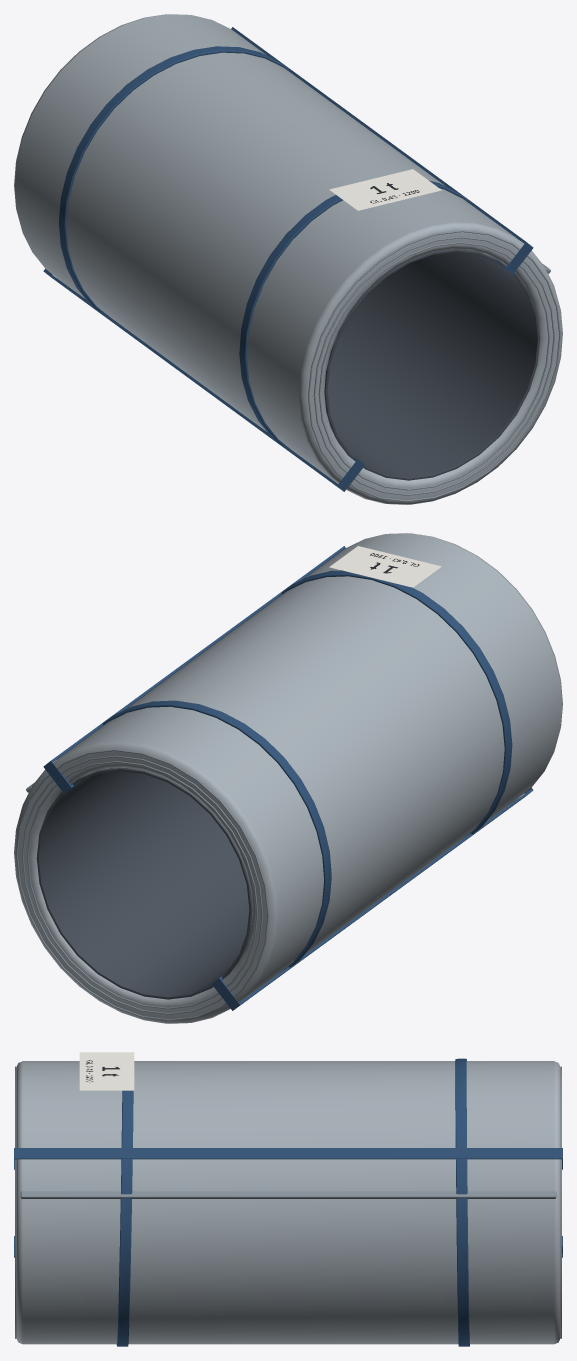
The model's file is bobina_1t.glb.
The picture shows the model from 3 angles, top to bottom: view 1: azimuth 30°, elevation 25°; view 2: azimuth 150°, elevation 25°; view 3: azimuth 270°, elevation 25°; orthographic projection. The views are drawn at different scales.
Visible parts, largest first — view 1: corpo, furo, cinta (×2), espira (×3), cinta_furo (×2), etiqueta; view 2: corpo, furo, cinta (×2), espira (×3), cinta_furo (×2), etiqueta; view 3: corpo, cinta_furo, cinta (×2), ponta_chapa, etiqueta, espira (×2).
Part boxes in pixels (x1=…): corpo: x1=14, y1=14, x2=562, y2=504; furo: x1=324, y1=249, x2=540, y2=480; cinta (×2): x1=58, y1=46, x2=469, y2=448; espira (×3): x1=308, y1=230, x2=560, y2=501; cinta_furo (×2): x1=43, y1=27, x2=533, y2=491; etiqueta: x1=329, y1=169, x2=441, y2=210; corpo: x1=14, y1=533, x2=562, y2=1023; furo: x1=36, y1=768, x2=252, y2=999; cinta (×2): x1=99, y1=570, x2=512, y2=972; espira (×3): x1=16, y1=749, x2=268, y2=1020; cinta_furo (×2): x1=43, y1=546, x2=533, y2=1010; etiqueta: x1=329, y1=546, x2=441, y2=587; corpo: x1=16, y1=1061, x2=560, y2=1344; cinta_furo: x1=14, y1=1148, x2=562, y2=1169; cinta (×2): x1=116, y1=1058, x2=469, y2=1346; ponta_chapa: x1=20, y1=1191, x2=556, y2=1198; etiqueta: x1=79, y1=1052, x2=134, y2=1090; espira (×2): x1=15, y1=1066, x2=561, y2=1338.
Bounding box in the file's own units: 0.6371 × 0.6382 × 1.21.
Materials: 5 (1 with a texture image).
